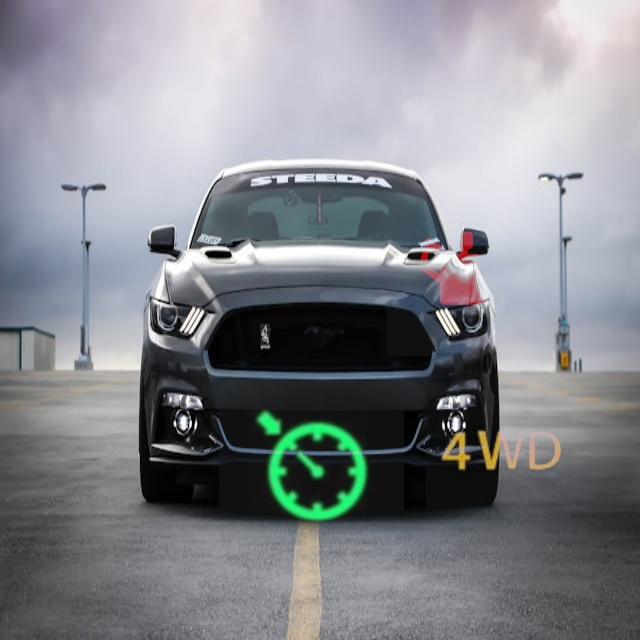symbol: (387, 166, 577, 356), (219, 375, 404, 560), (426, 377, 576, 527), (235, 53, 381, 199)
